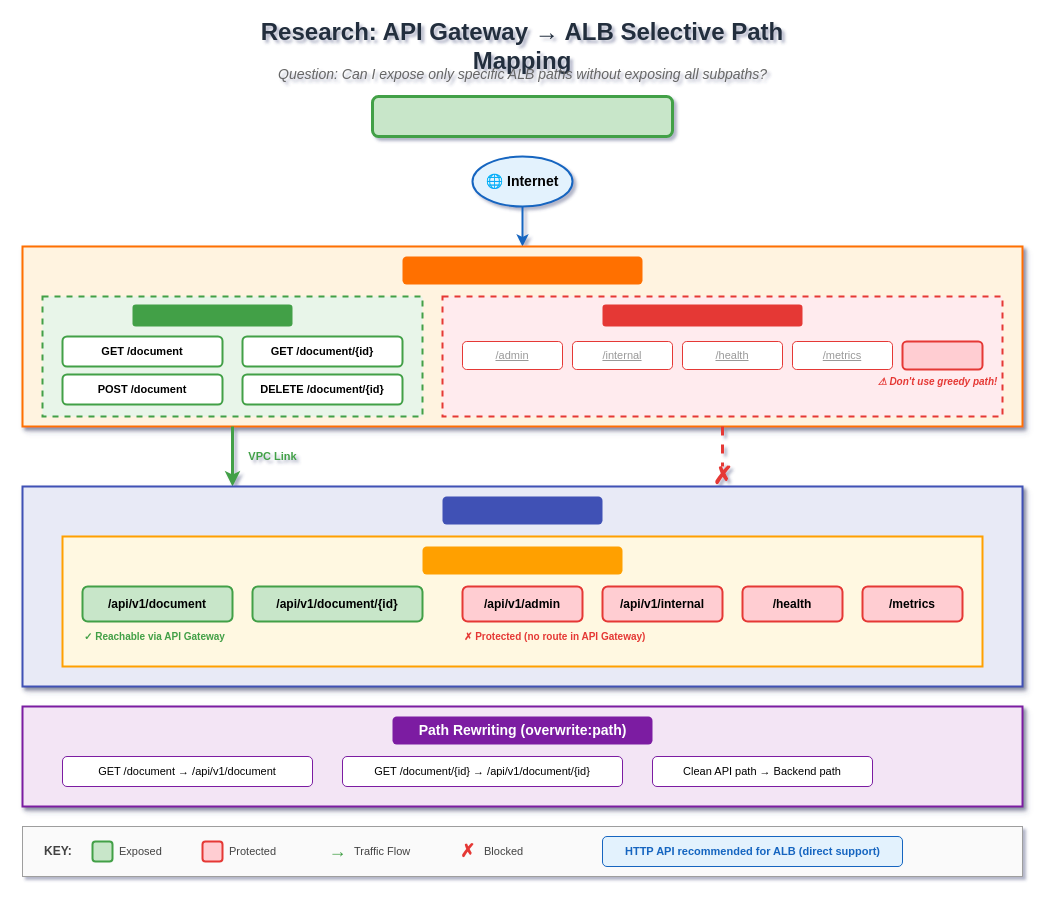
The diagram is 1052 pixels wide and 900 high, and some of its shapes have lost their labels. Here are the shapes that lost their labels. From the top down, the centre of each, then its label:
the point at 522,116: ✓ YES - Use specific routes, NOT {proxy+}
the point at 522,270: API GATEWAY (HTTP API)
the point at 212,315: ✓ EXPOSED ROUTES
the point at 702,315: ✗ NOT EXPOSED (Returns 404)
the point at 942,355: /{proxy+}
the point at 522,510: VPC (Private)
the point at 522,560: ALB: some.alb.com
